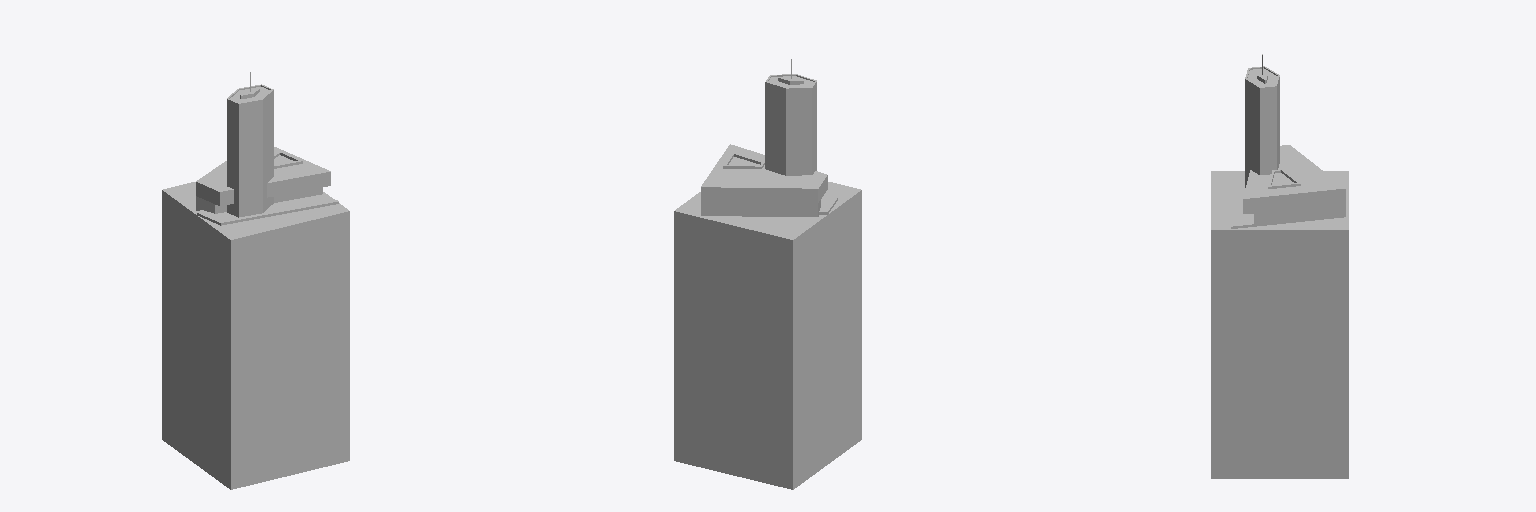
Rendered from Begradjanka_fin.obj.
3 views of the same model, side by side, from view 1: azimuth 30°, elevation 25°; view 2: azimuth 150°, elevation 25°; view 3: azimuth 270°, elevation 25° (orthographic).
Parts seen in each view (by area): view 1: Beogradjanka; view 2: Beogradjanka; view 3: Beogradjanka.
Boxes of the visible parts, x1,y1,x2,y2 form: Beogradjanka: [162, 72, 349, 489]; Beogradjanka: [674, 59, 861, 489]; Beogradjanka: [1211, 54, 1348, 478].
Bounding box in the file's own units: 0.5 × 1.55 × 0.5.